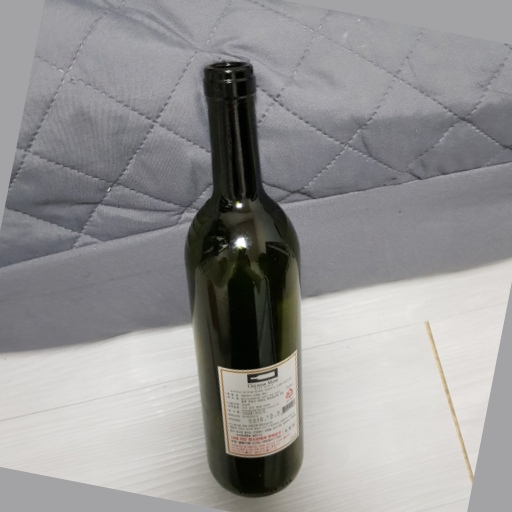Glass_2: (181, 58, 313, 497)
